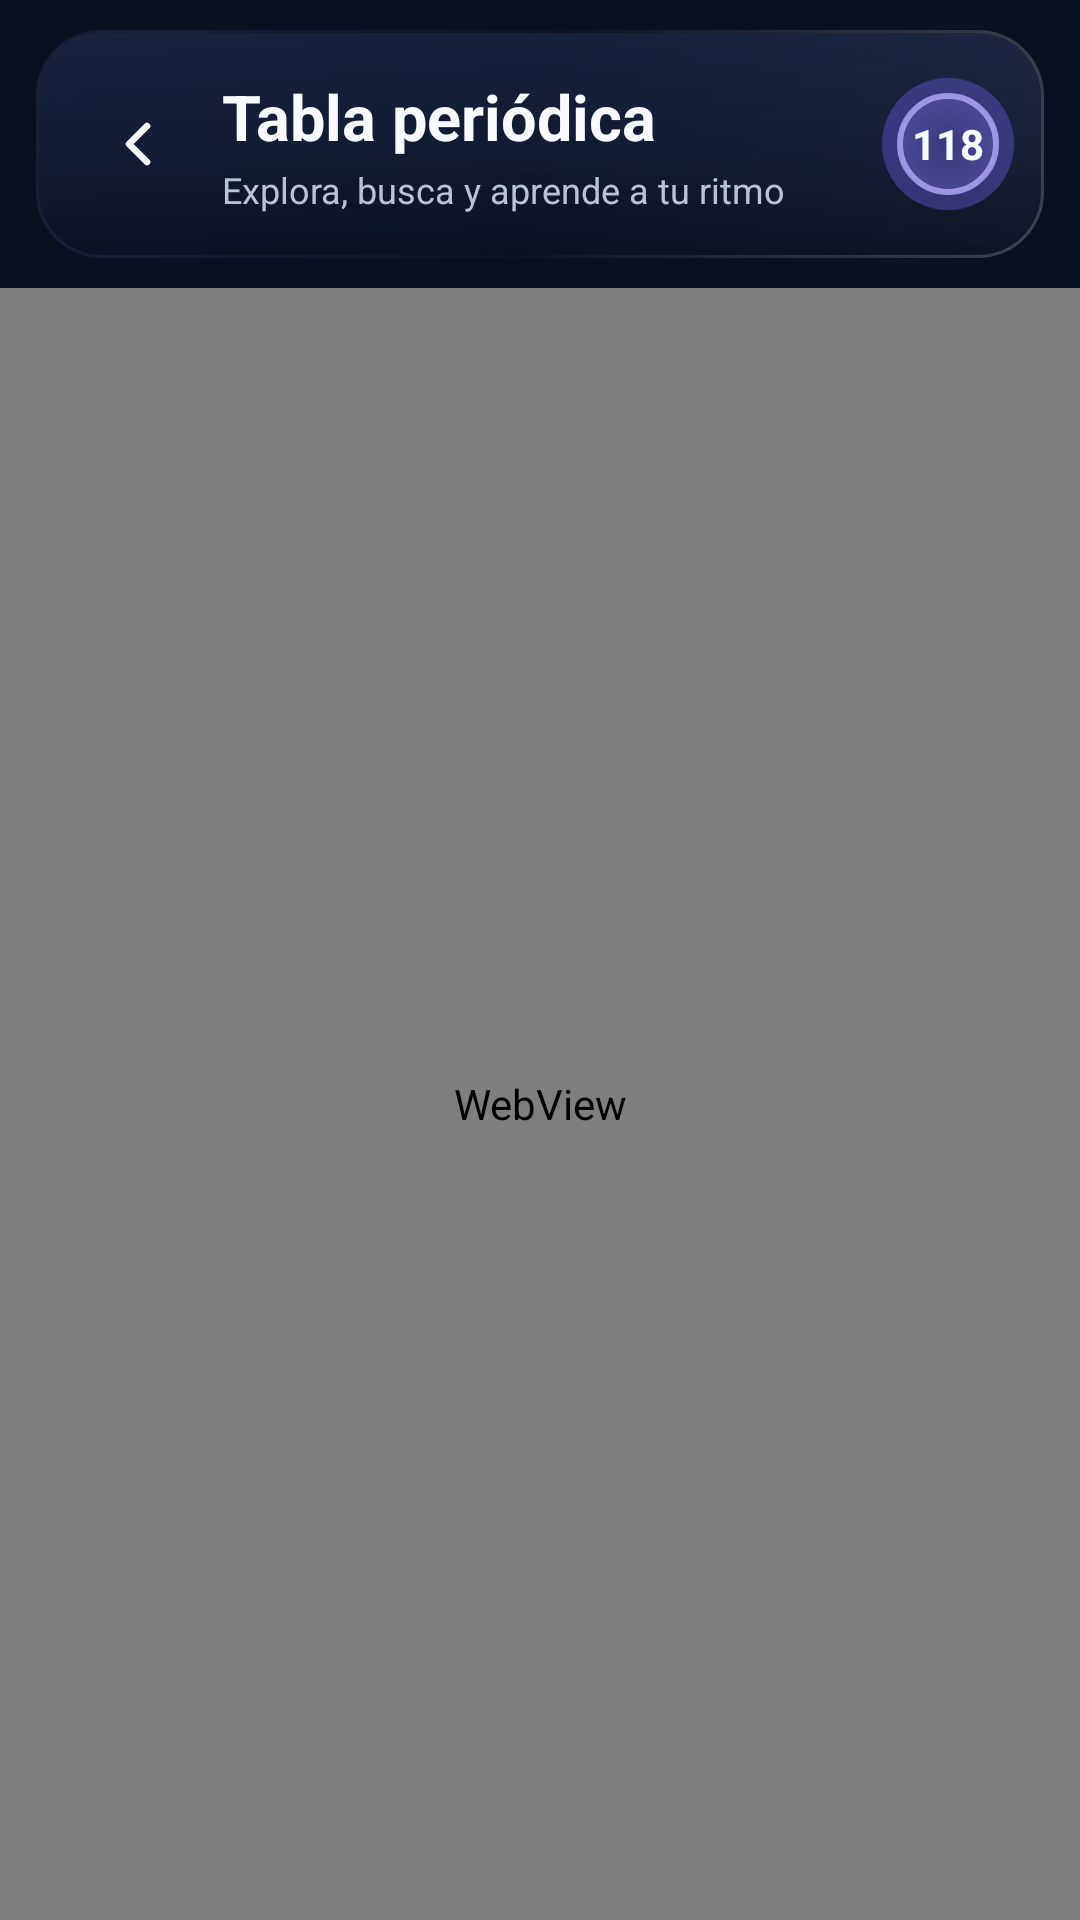

Icon bounding boxes for this 1080px×1920px phone screenshot, format (x1, y1, x2, y2):
Volver: (125, 122, 151, 166)
